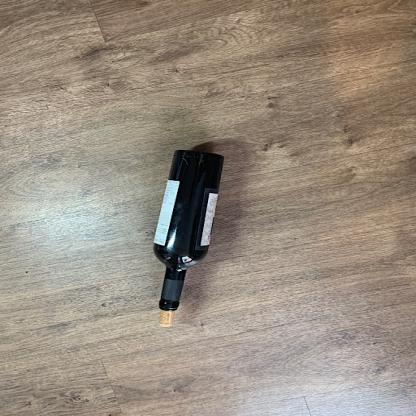trash: (145, 147, 228, 314)
